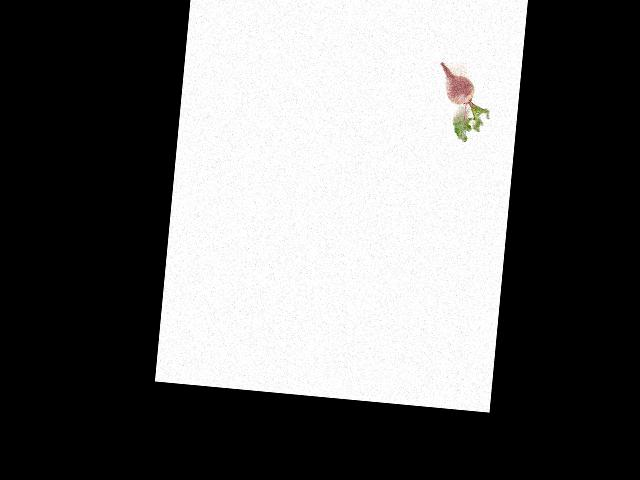beet: (433, 62, 494, 144)
